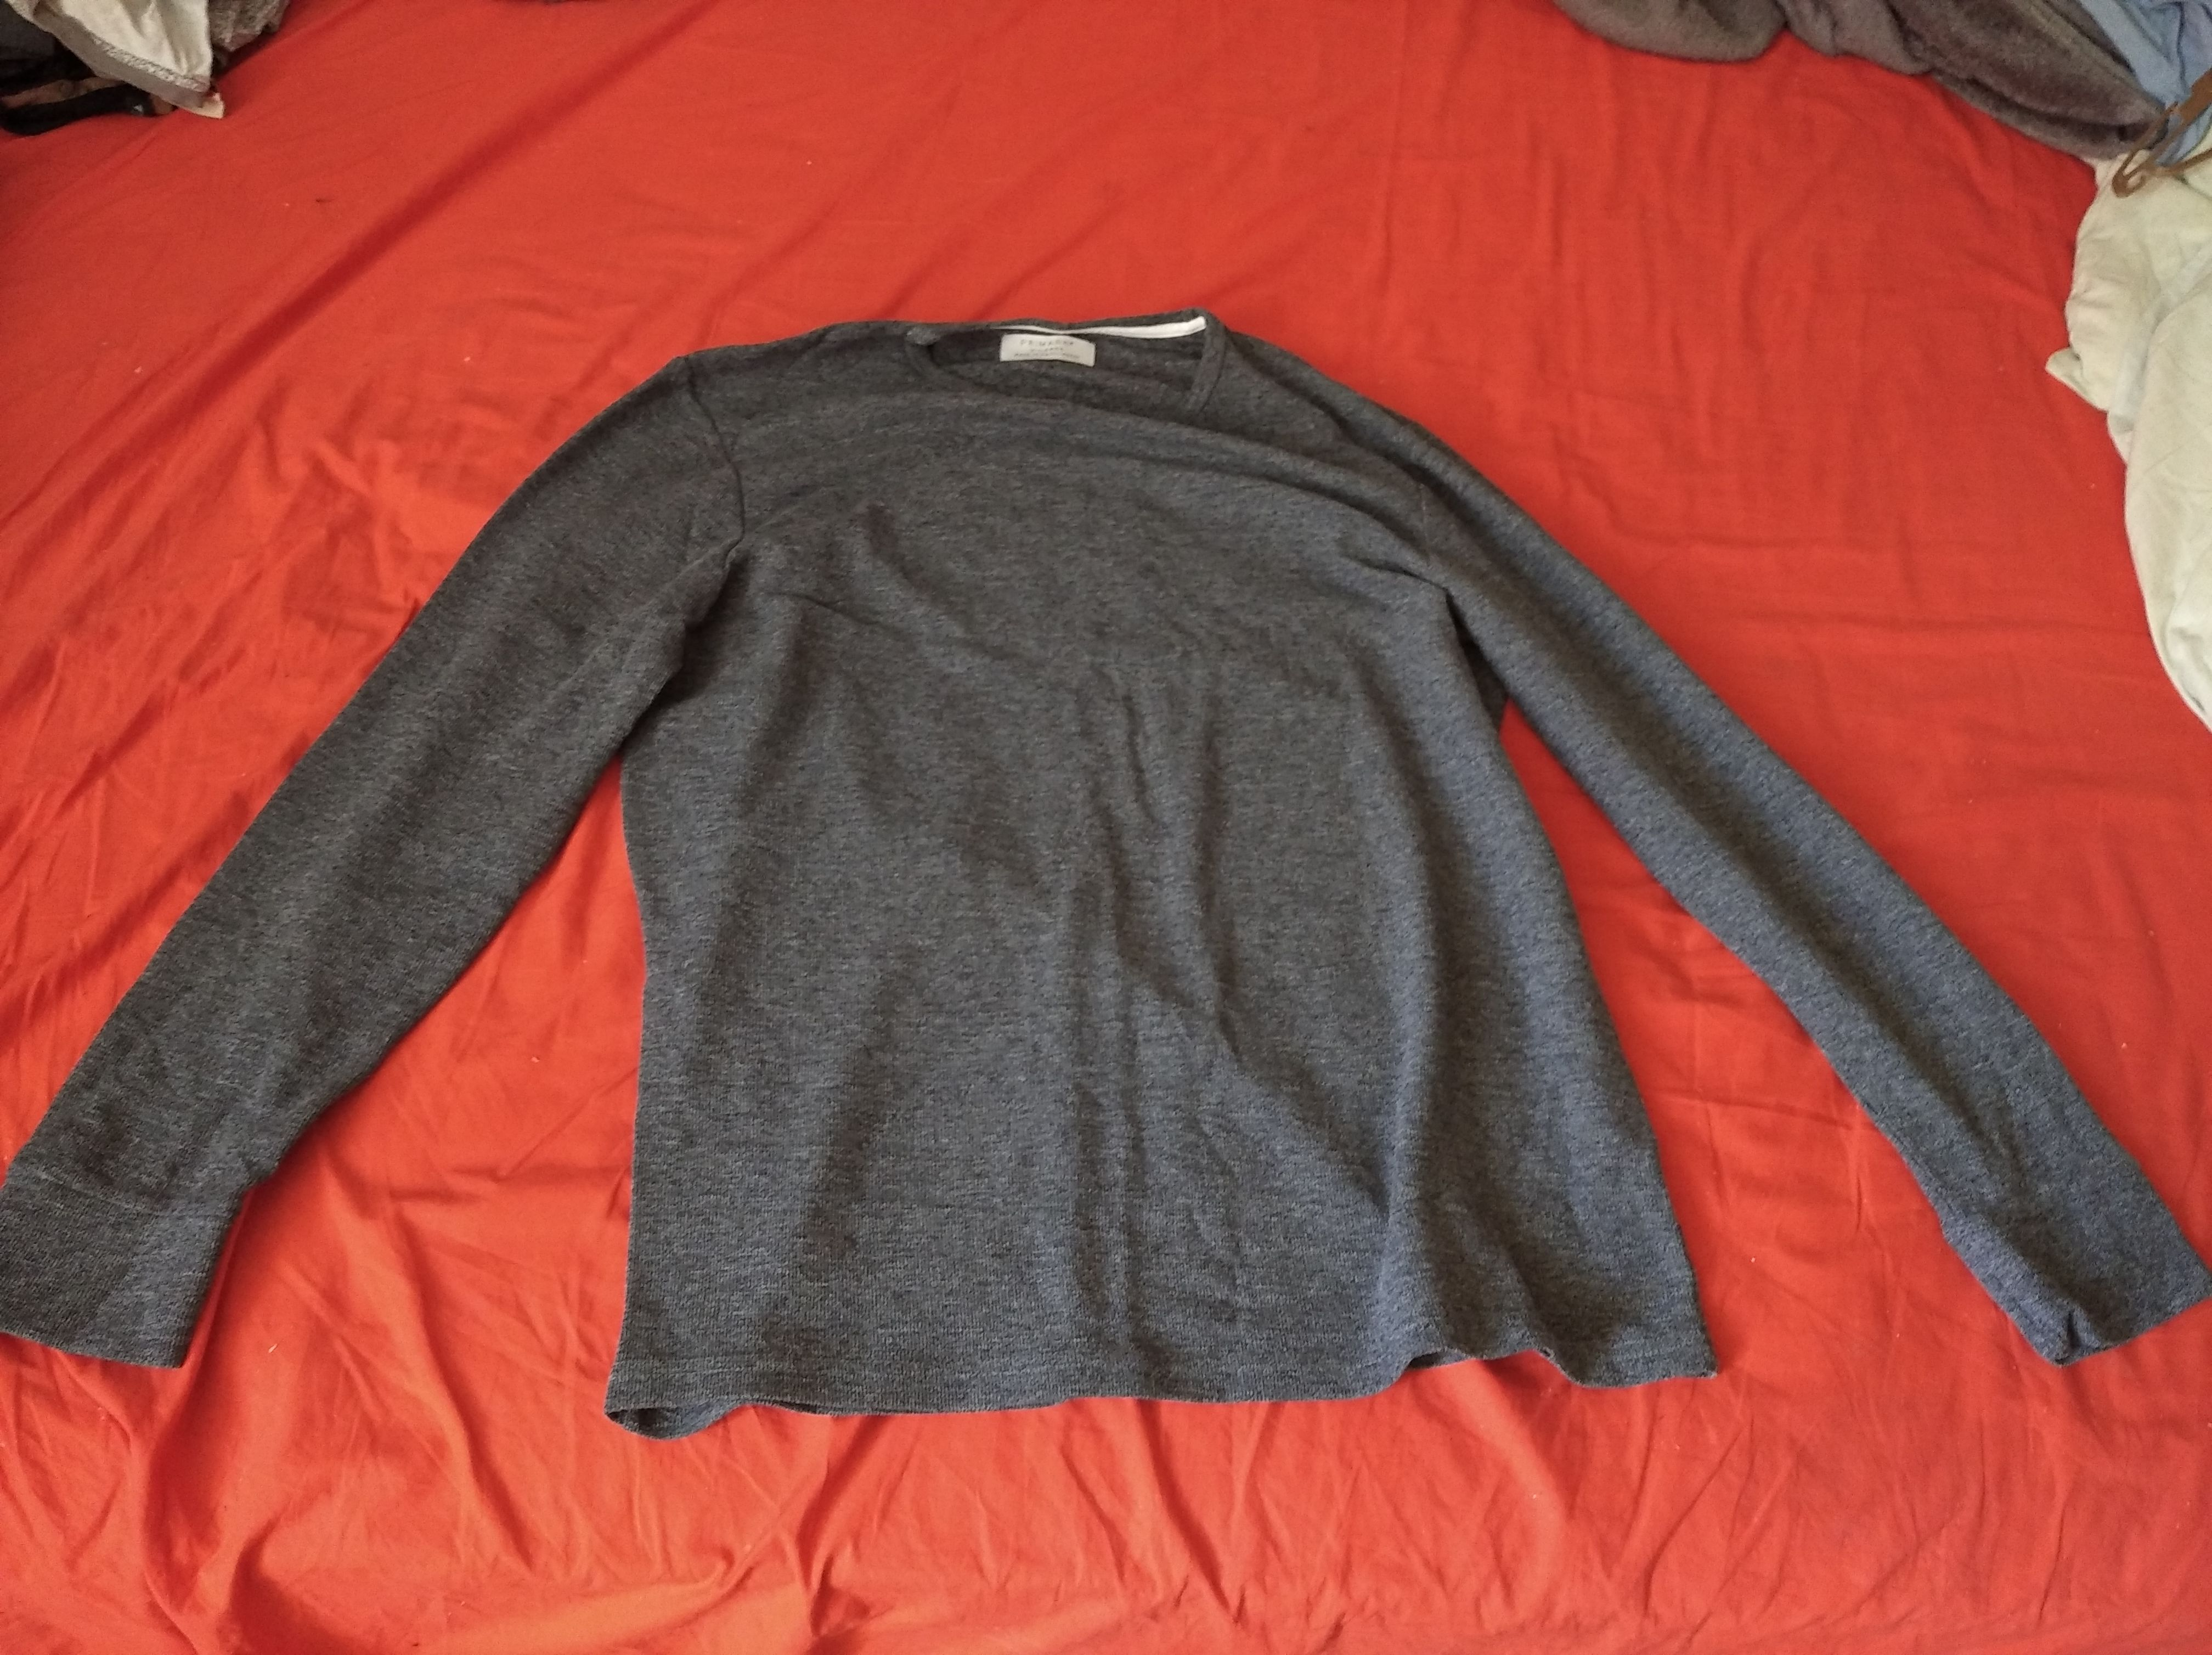clothes: (2, 306, 2212, 1446)
